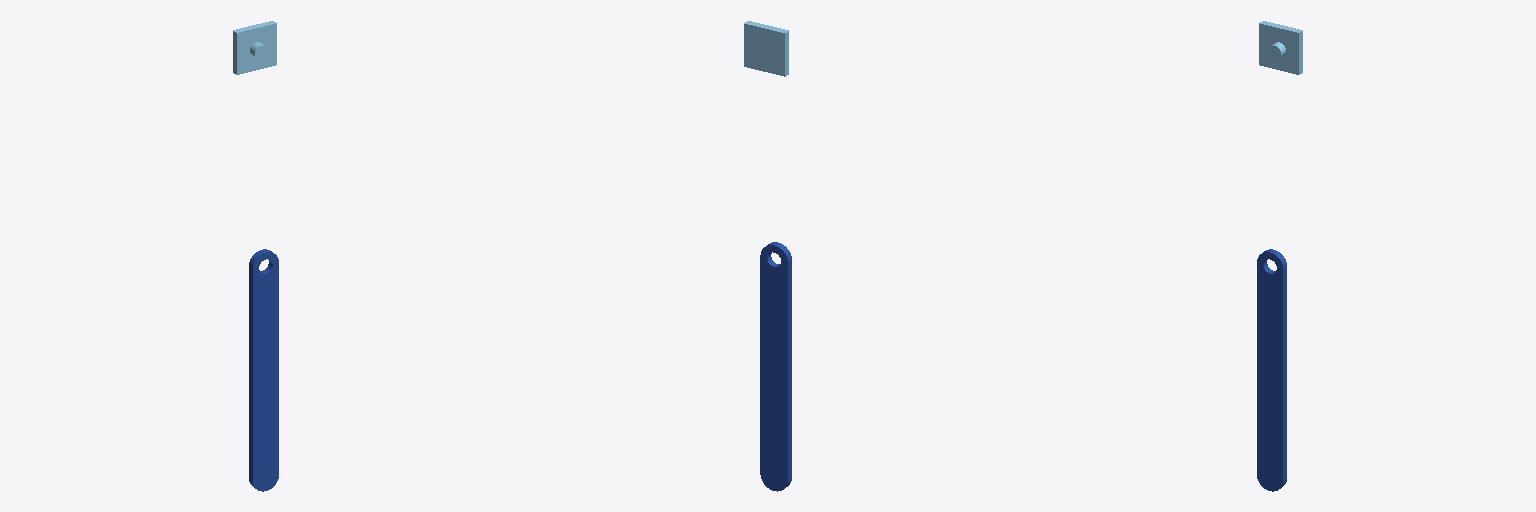
robot.urdf — doublePendulem:
<?xml version="1.0" ?>
<!-- Generated using onshape-to-robot -->
<!-- Onshape https://cad.onshape.com/documents/3ebbb10823be46a55188b1ff/w/2488f47398571f659f3fde55/e/50a5d975662b86366b46b910 -->
<robot name="doublePendulem">
  <!-- Link base -->
  <link name="base">
    <inertial>
      <origin xyz="0 0 0" rpy="0 0 0"/>
      <mass value="0"/>
      <inertia ixx="0" ixy="0" ixz="0" iyy="0" iyz="0" izz="0"/>
    </inertial>
    <!-- Part base -->
    <visual>
      <origin xyz="0 0 0" rpy="0 -0 0"/>
      <geometry>
        <mesh filename="package://assets/base.stl"/>
      </geometry>
      <material name="base_material">
        <color rgba="0.615686 0.811765 0.929412 1.0"/>
      </material>
    </visual>
    <collision>
      <origin xyz="0 0 0" rpy="0 -0 0"/>
      <geometry>
        <mesh filename="package://assets/base.stl"/>
      </geometry>
    </collision>
  </link>
  <!-- Link link1 -->
  <link name="link1">
    <inertial>
      <origin xyz="-3.2373e-18 -0.0537081 -0.00455503" rpy="0 0 0"/>
      <mass value="0.0633724"/>
      <inertia ixx="7.1571e-05" ixy="0" ixz="0" iyy="2.86478e-06" iyz="1.30538e-06" izz="7.27655e-05"/>
    </inertial>
    <!-- Part link1 -->
    <visual>
      <origin xyz="0 -3.06162e-19 -0.022" rpy="-1.5708 -0 0"/>
      <geometry>
        <mesh filename="package://assets/link1.stl"/>
      </geometry>
      <material name="link1_material">
        <color rgba="0.647059 0.647059 0.647059 1.0"/>
      </material>
    </visual>
    <collision>
      <origin xyz="0 -3.06162e-19 -0.022" rpy="-1.5708 -0 0"/>
      <geometry>
        <mesh filename="package://assets/link1.stl"/>
      </geometry>
    </collision>
  </link>
  <!-- Link link2 -->
  <link name="link2">
    <inertial>
      <origin xyz="-7.41738e-19 -0.0517566 -0.005" rpy="0 0 0"/>
      <mass value="0.0608088"/>
      <inertia ixx="6.55015e-05" ixy="0" ixz="0" iyy="2.52035e-06" iyz="0" izz="6.70084e-05"/>
    </inertial>
    <!-- Part link2 -->
    <visual>
      <origin xyz="0 0.1 -0.034" rpy="-1.5708 -0 0"/>
      <geometry>
        <mesh filename="package://assets/link2.stl"/>
      </geometry>
      <material name="link2_material">
        <color rgba="0.231373 0.380392 0.705882 1.0"/>
      </material>
    </visual>
    <collision>
      <origin xyz="0 0.1 -0.034" rpy="-1.5708 -0 0"/>
      <geometry>
        <mesh filename="package://assets/link2.stl"/>
      </geometry>
    </collision>
  </link>
  <!-- Joint from link1 to link2 -->
  <joint name="joint2" type="continuous">
    <origin xyz="0 -0.1 0.012" rpy="0 -0 0"/>
    <parent link="link1"/>
    <child link="link2"/>
    <axis xyz="0 0 1"/>
    <limit effort="1000" velocity="600"/>
    <joint_properties friction="0.5"/>
  </joint>
  <!-- Joint from base to link1 -->
  <joint name="joint1" type="continuous">
    <origin xyz="0 -0.022 3.06162e-19" rpy="1.5708 -0 0"/>
    <parent link="base"/>
    <child link="link1"/>
    <axis xyz="0 0 1"/>
    <limit effort="1000" velocity="600"/>
    <joint_properties friction="0.5"/>
  </joint>
</robot>

--- What the picture shows (computed from the rendered views, not written in the file) ---
The picture shows the robot from 3 angles, left to right: view 1: azimuth 30°, elevation 25°; view 2: azimuth 150°, elevation 25°; view 3: azimuth 330°, elevation 25°; orthographic projection.
Model doublePendulem with 3 links and 2 joints (2 continuous), rooted at base, posed every joint at zero.
Visible links, largest first — view 1: link2, base; view 2: link2, base; view 3: link2, base.
Boxes of the visible links, x1,y1,x2,y2 form: link2: (249, 249, 278, 491); base: (233, 21, 276, 74); link2: (760, 242, 791, 491); base: (744, 21, 788, 76); link2: (1257, 249, 1286, 491); base: (1259, 21, 1302, 74).
Size in the robot's own frame: 0.3 by 0.17 by 3.25 metres.
3 mesh visuals loaded from 3 distinct referenced files (3 binary STL).
